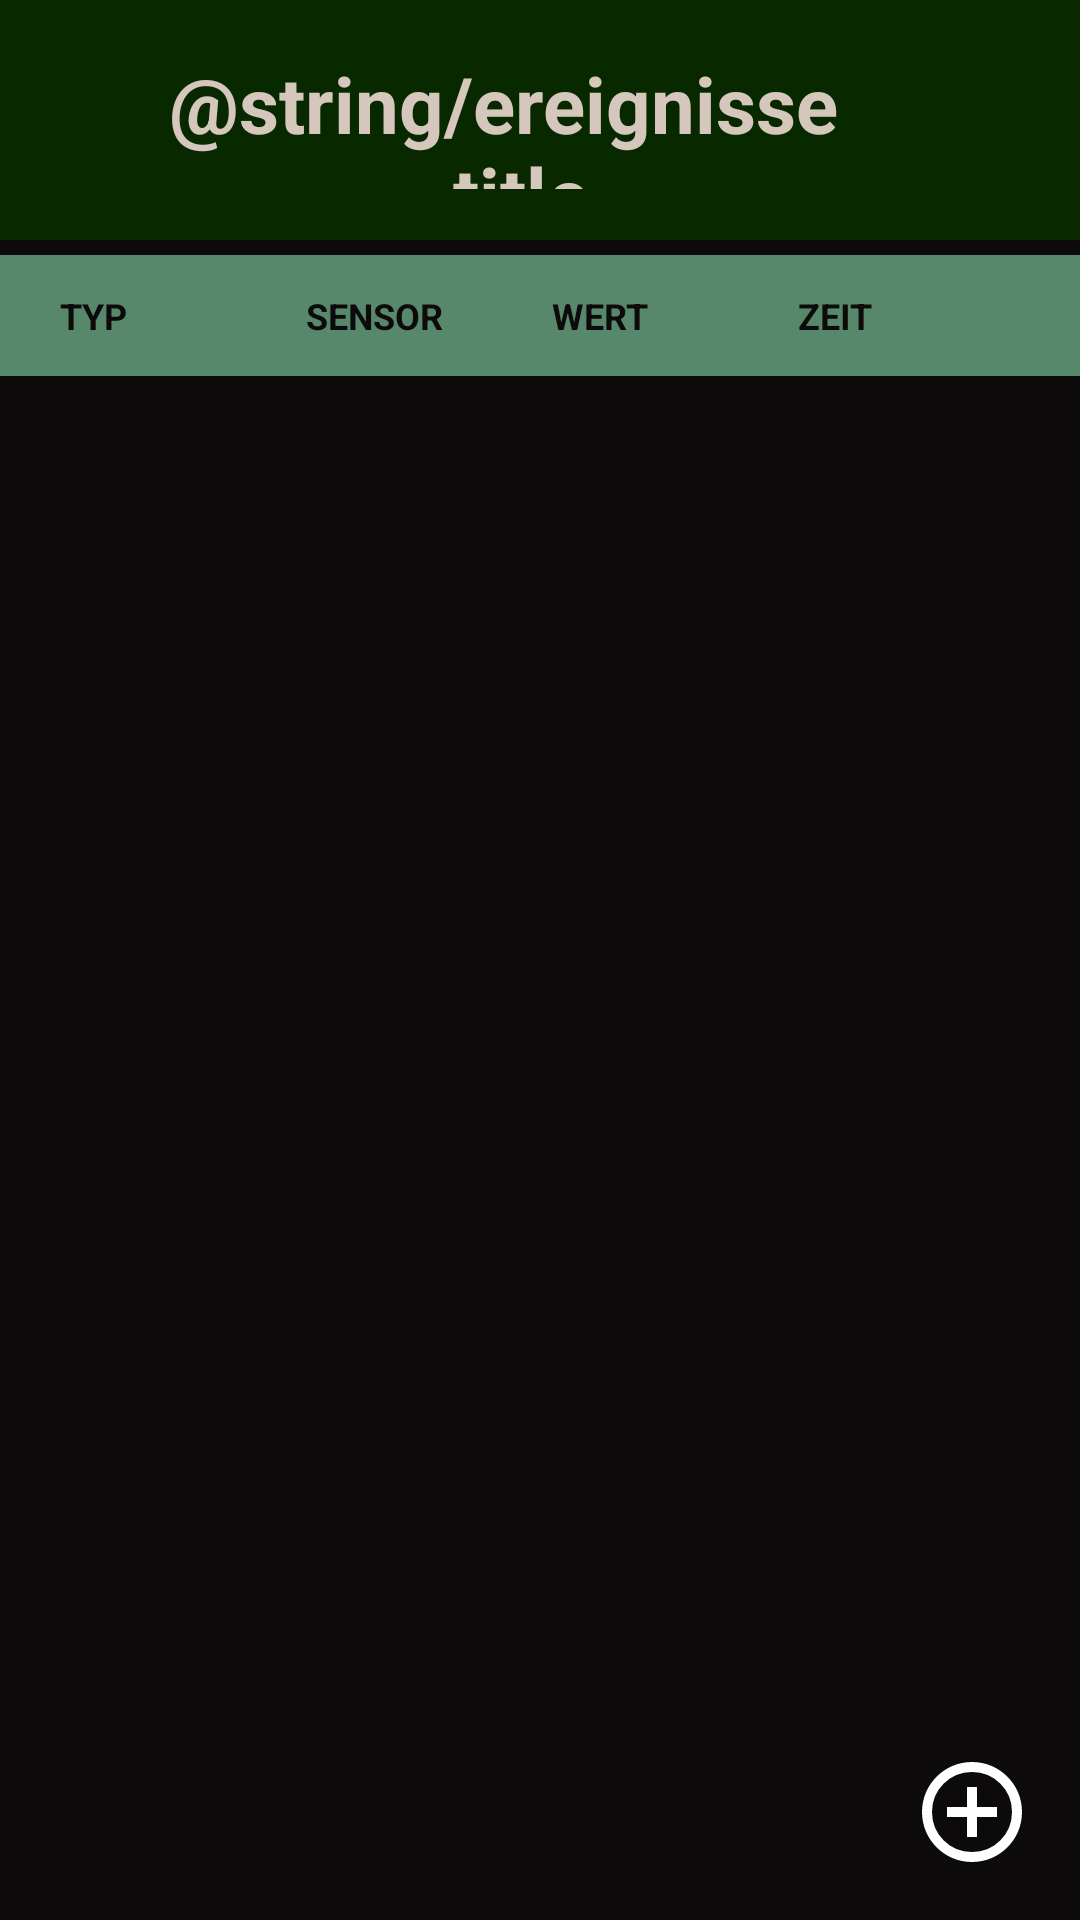

Named icons in this screenshot (1080px x 1920px) and their centers, point (x, y):
add circle: point (972, 1812)
